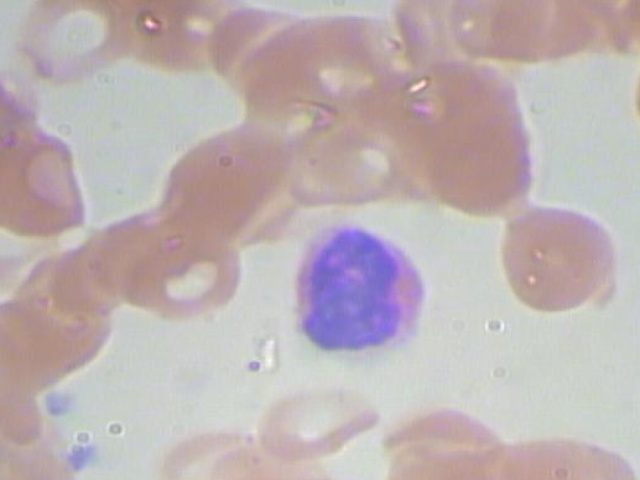Platelets: (62, 434, 96, 477), (42, 387, 77, 418)
RBC: (478, 194, 633, 316), (117, 229, 257, 333), (421, 111, 560, 215), (270, 111, 409, 215), (247, 371, 387, 462), (8, 0, 148, 89), (0, 128, 102, 245), (0, 296, 82, 395), (485, 0, 605, 66), (617, 41, 640, 146)
WBC: (281, 218, 440, 371)
